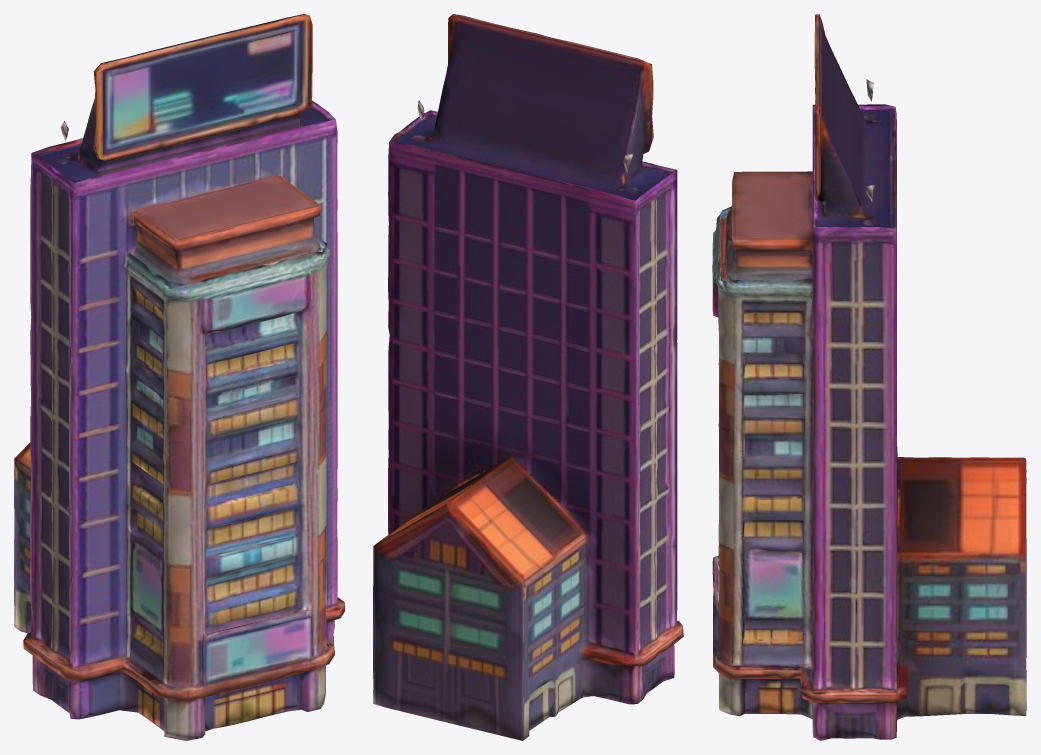
Rendered from tower-06.glb.
3 views of the same model, side by side, from view 1: azimuth 30°, elevation 25°; view 2: azimuth 150°, elevation 25°; view 3: azimuth 270°, elevation 25° (orthographic). The views are drawn at different scales.
Parts seen in each view (by area): view 1: model; view 2: model; view 3: model.
Boxes of the visible parts, box(x1,y1,x2,y2) form: model: box(14, 14, 344, 740); model: box(373, 14, 683, 740); model: box(712, 14, 1026, 740).
Bounding box in the file's own units: 0.8557 × 1.9 × 0.8745.
Materials: 1 (1 with a texture image).
